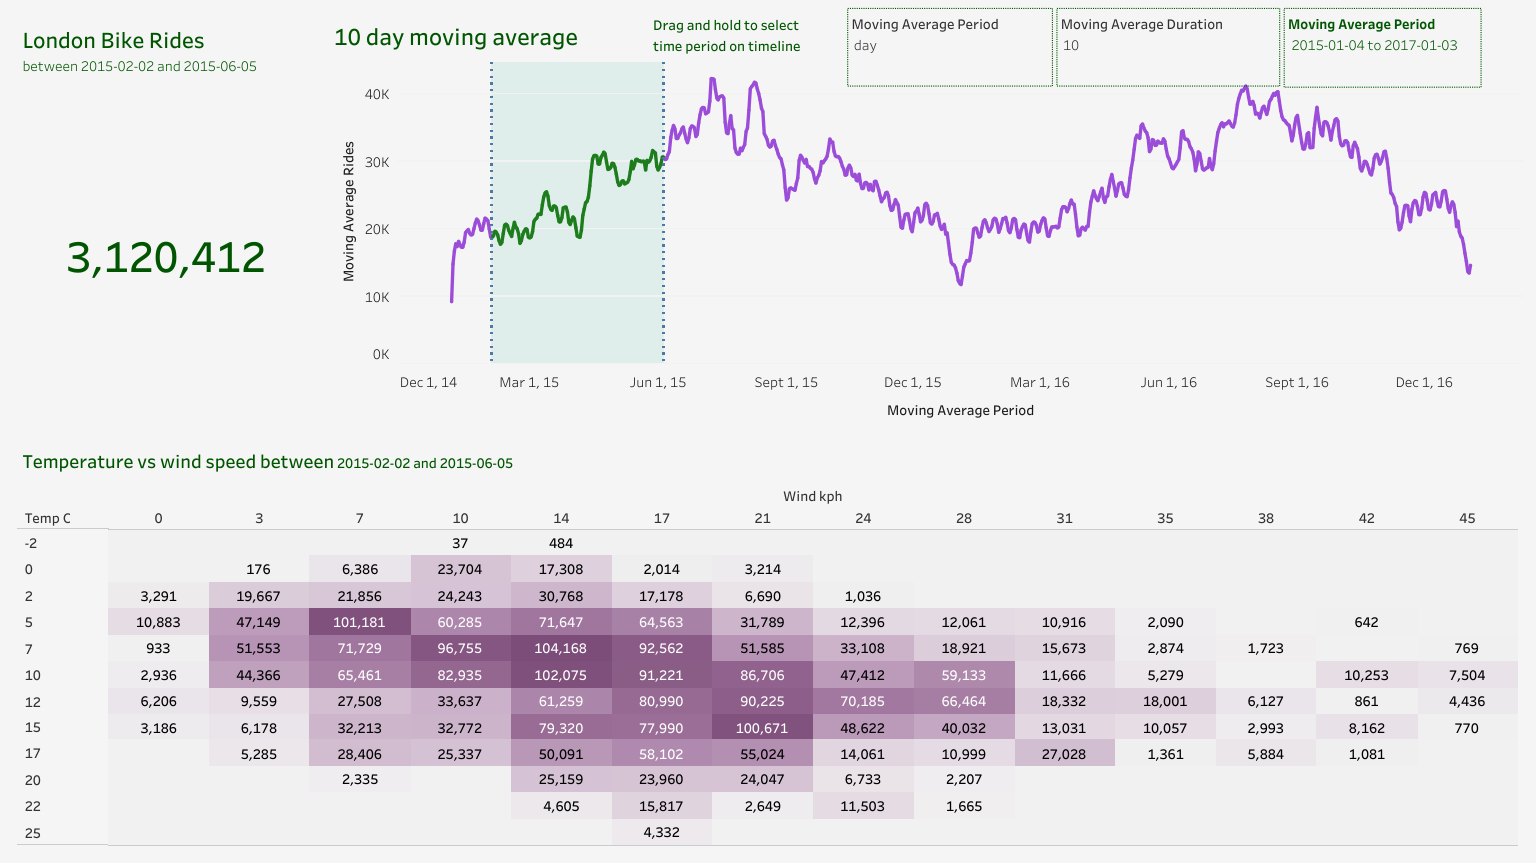

This screenshot's page, from the dashboard's own definition file:
{"tool":"tableau","page":{"name":"Dashboard","canvas":[1366,768],"ordinal":0},"visuals":[{"type":"parameter","param":"[Parameters].[Parameter 1]","box":[753,7,183,70]},{"type":"parameter","param":"[Parameters].[Parameter 2]","box":[939,7,199,70]},{"type":"filter","title":"MovingAverage","param":"[federated.0do420k0b7kvca12i4io011h6gk5].[none:Calculation_1274237280565841923:q","box":[1141,7,176,71]},{"type":"worksheet","title":"TotalRides","mark":"Automatic","box":[8,8,281,376]},{"type":"worksheet","title":"MovingAverage","mark":"Automatic","rows":["Calculation1"],"cols":["Calculation_1274237280565841923"],"box":[289,8,1069,376]},{"type":"text","box":[578,10,171,42]},{"type":"worksheet","title":"Heatmap","mark":"Square","rows":["temp real C (bin)"],"cols":["Wind Speed Kph (bin)"],"box":[8,384,1350,376]}]}

Visuals, with their boxes in screenshot pixels (x1, y1, x2, y2), scaled from the page's 1366x768 canvas onto the 1536x863 screenshot:
parameter: 847,8,1052,87
parameter: 1056,8,1280,87
"MovingAverage" filter: 1283,8,1481,88
"TotalRides" worksheet: 9,9,325,432
"MovingAverage" worksheet: 325,9,1527,432
text: 650,11,842,58
"Heatmap" worksheet (Square marks): 9,432,1527,854
